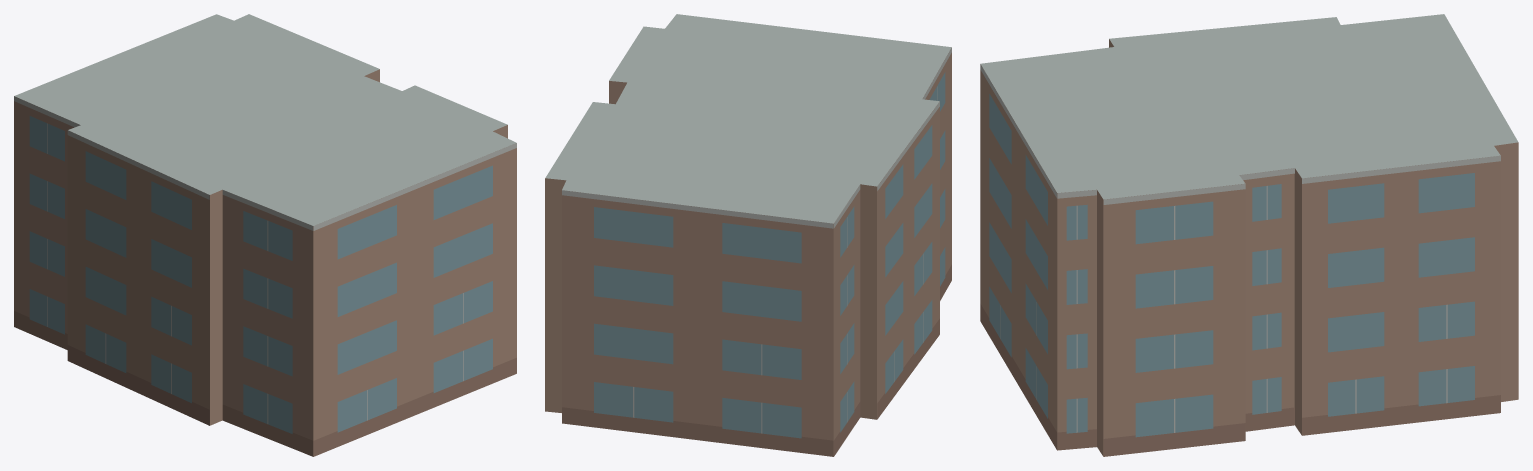
The model's file is survey-upis-32812544.glb.
The picture shows the model from 3 angles, left to right: view 1: azimuth 30°, elevation 25°; view 2: azimuth 150°, elevation 25°; view 3: azimuth 270°, elevation 25°; orthographic projection. The views are drawn at different scales.
Parts seen in each view (by area): view 1: survey-upis-32812544.tmp; view 2: survey-upis-32812544.tmp; view 3: survey-upis-32812544.tmp.
Part boxes in pixels (<box>): survey-upis-32812544.tmp: <box>14,14,516,456</box>; survey-upis-32812544.tmp: <box>545,14,951,456</box>; survey-upis-32812544.tmp: <box>980,14,1518,456</box>.
Size of the model in its own units: 17.39 by 11.24 by 21.32.
